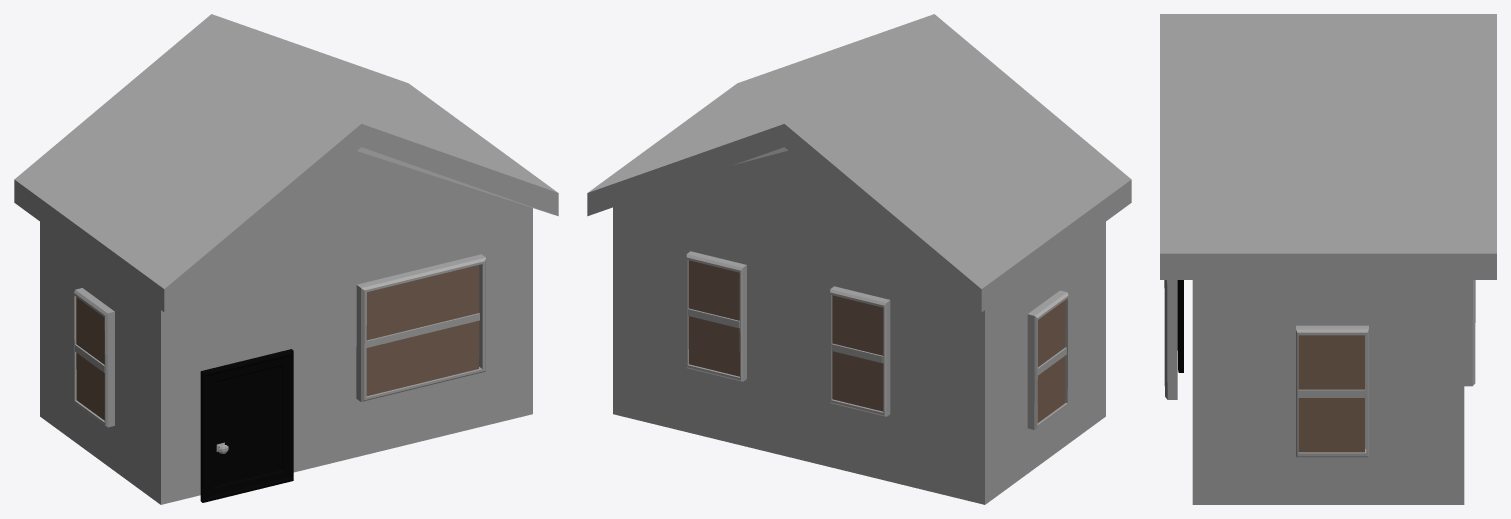
Rendered from Farmhouse2.fbx.
3 views of the same model, side by side, from view 1: azimuth 30°, elevation 25°; view 2: azimuth 150°, elevation 25°; view 3: azimuth 270°, elevation 25° (orthographic). The views are drawn at different scales.
Parts seen in each view (by area): view 1: pCube110, polySurface430, pSphere22, polySurface434; view 2: pCube110, polySurface433, polySurface432, polySurface434; view 3: pCube110, polySurface431, polySurface430, polySurface432, pSphere22.
Part boxes in pixels (x1,y1,x2,y2): pCube110: (14,14,558,504); polySurface430: (356,254,485,401); pSphere22: (200,349,293,502); polySurface434: (73,288,114,427); pCube110: (587,14,1131,504); polySurface433: (830,286,890,416); polySurface432: (686,251,746,381); polySurface434: (1027,290,1068,429); pCube110: (1160,14,1496,504); polySurface431: (1296,325,1368,457); polySurface430: (1164,280,1177,399); polySurface432: (1464,280,1475,386); pSphere22: (1177,280,1183,372).
Size of the model in its own units: 47.58 by 40.22 by 31.36.
